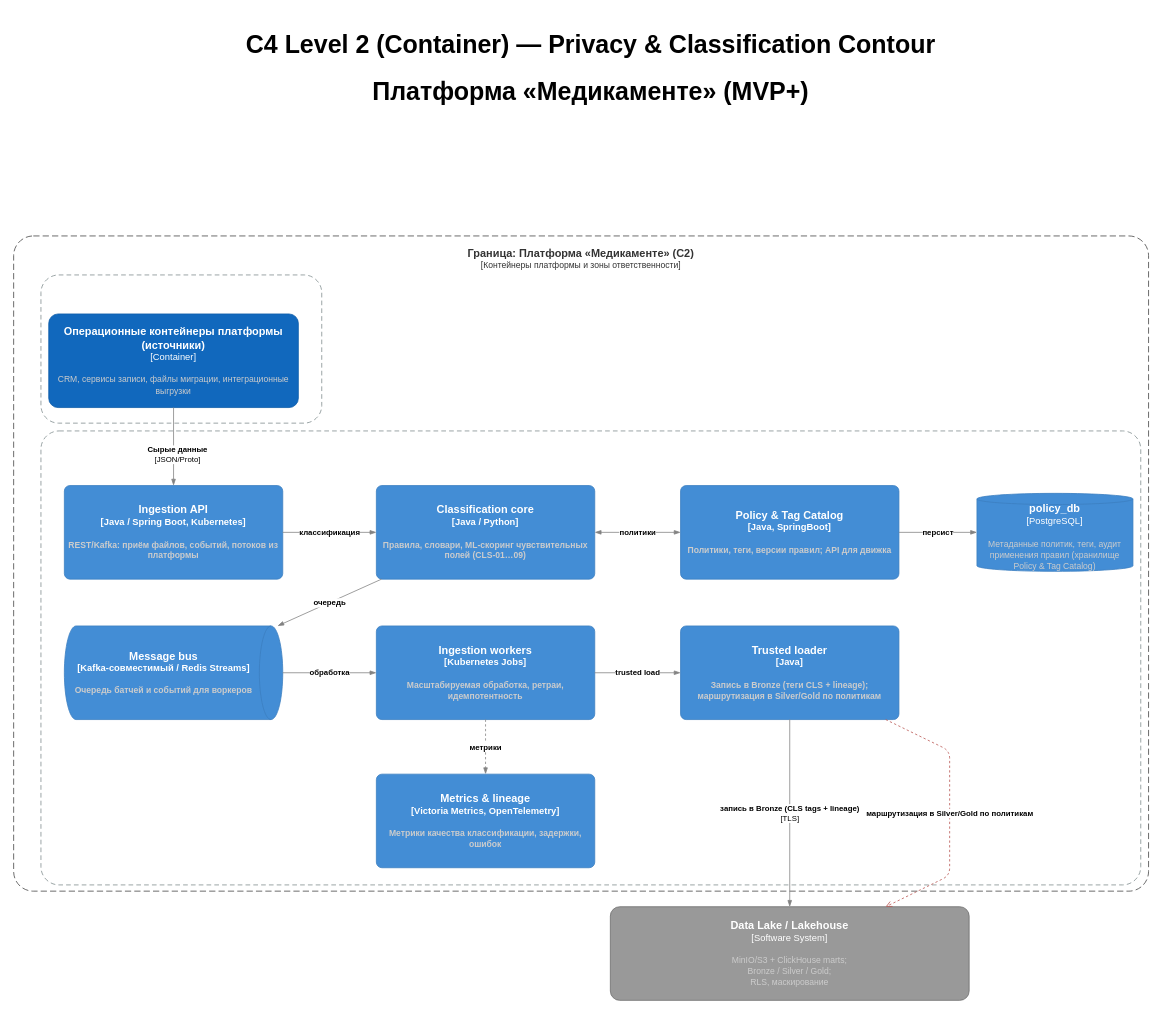
This 1162x1014 diagram has some shape labels left out. Here are the shapes that lost their labels. From the top down, the box of each, then its label:
(40, 274, 322, 423): Зона: операционные контейнеры [Источники данных внутри платформы]
(40, 430, 1141, 885): Зона: data governance и trusted ingestion [Классификация, политики, загрузка]
